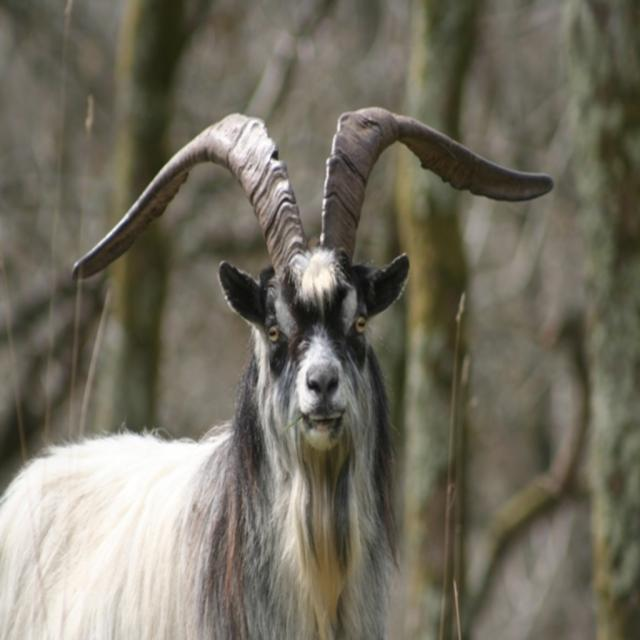Goat: (0, 108, 554, 640)
